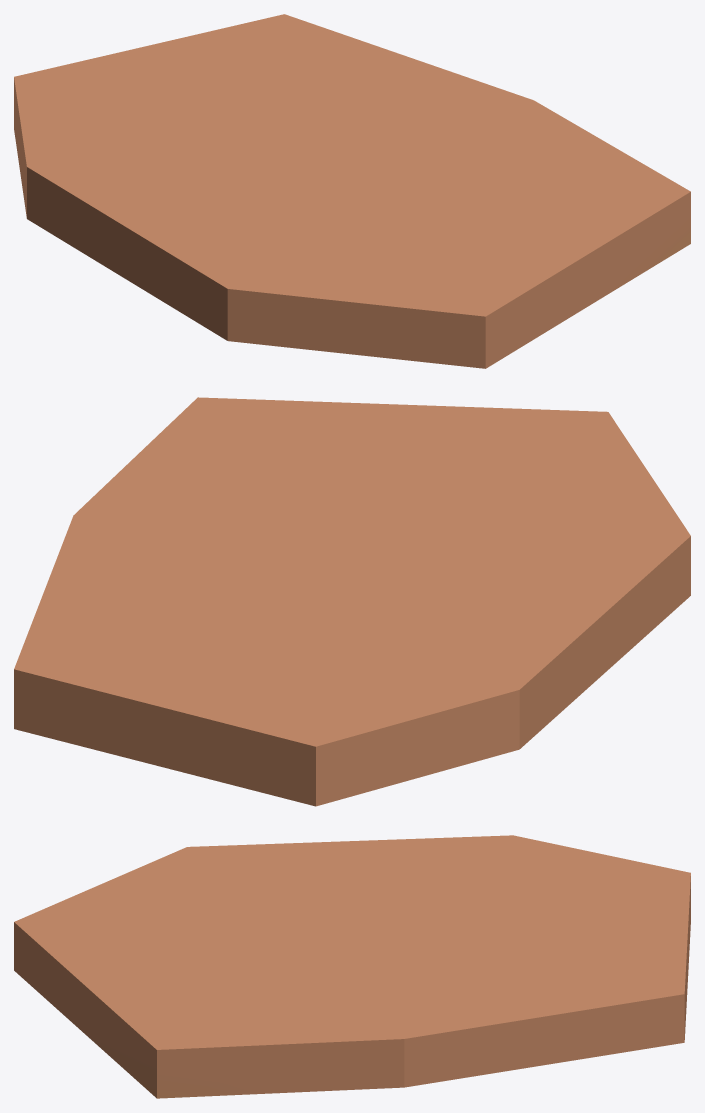
File: gachsan_003.fbx
3 renders of one model, top to bottom at view 1: azimuth 30°, elevation 25°; view 2: azimuth 150°, elevation 25°; view 3: azimuth 270°, elevation 25°, orthographic. The views are drawn at different scales.
Visible parts, largest first — view 1: gachsan_003; view 2: gachsan_003; view 3: gachsan_003.
Part boxes in pixels (x1,y1,x2,y2): gachsan_003: (14,14,690,368); gachsan_003: (14,397,690,806); gachsan_003: (14,835,690,1098).
Bounding box in the file's own units: 69.59 × 7.35 × 92.75.
